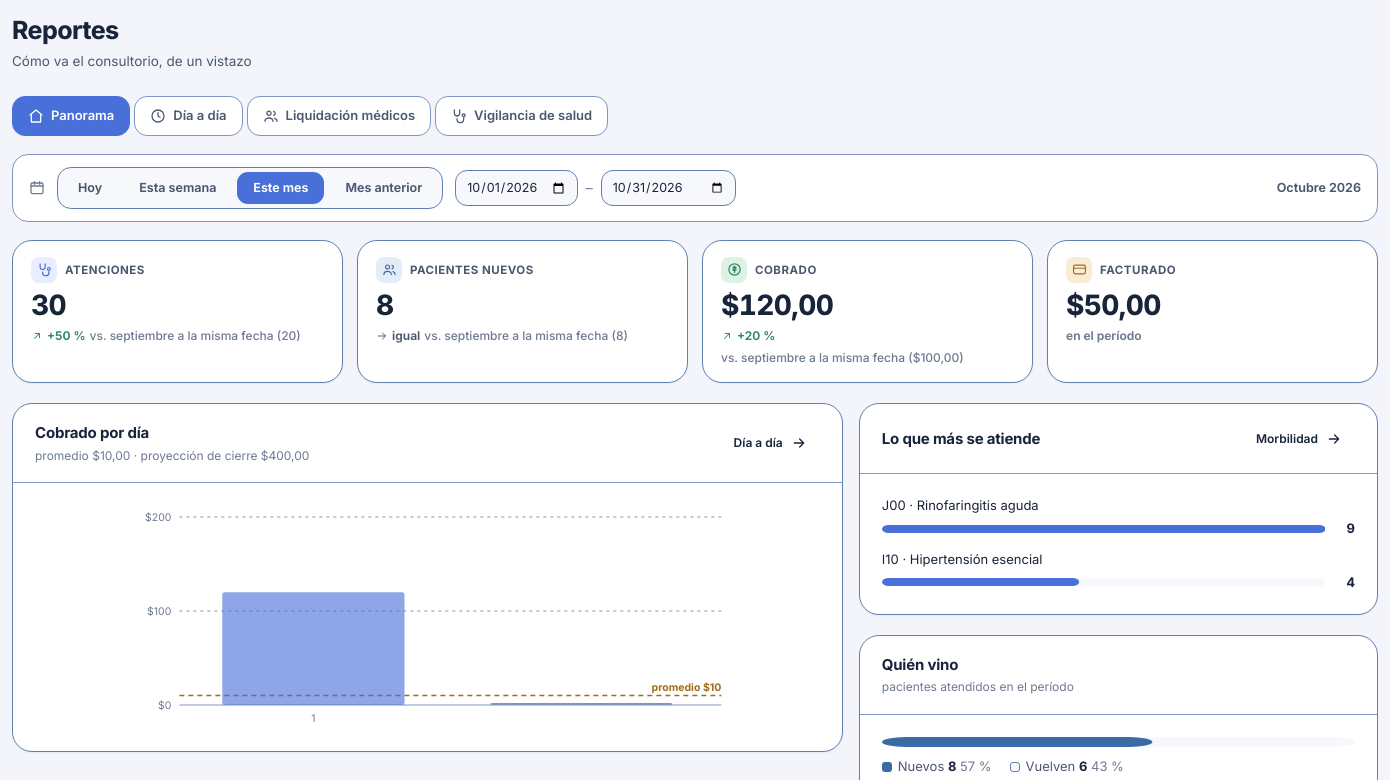
Test case: Reportes → Panorama › links each block to the tab with the detail
The image size is (1390, 780).
Click the button "Morbilidad" at (1299, 439), box [1243,422,1355,455]
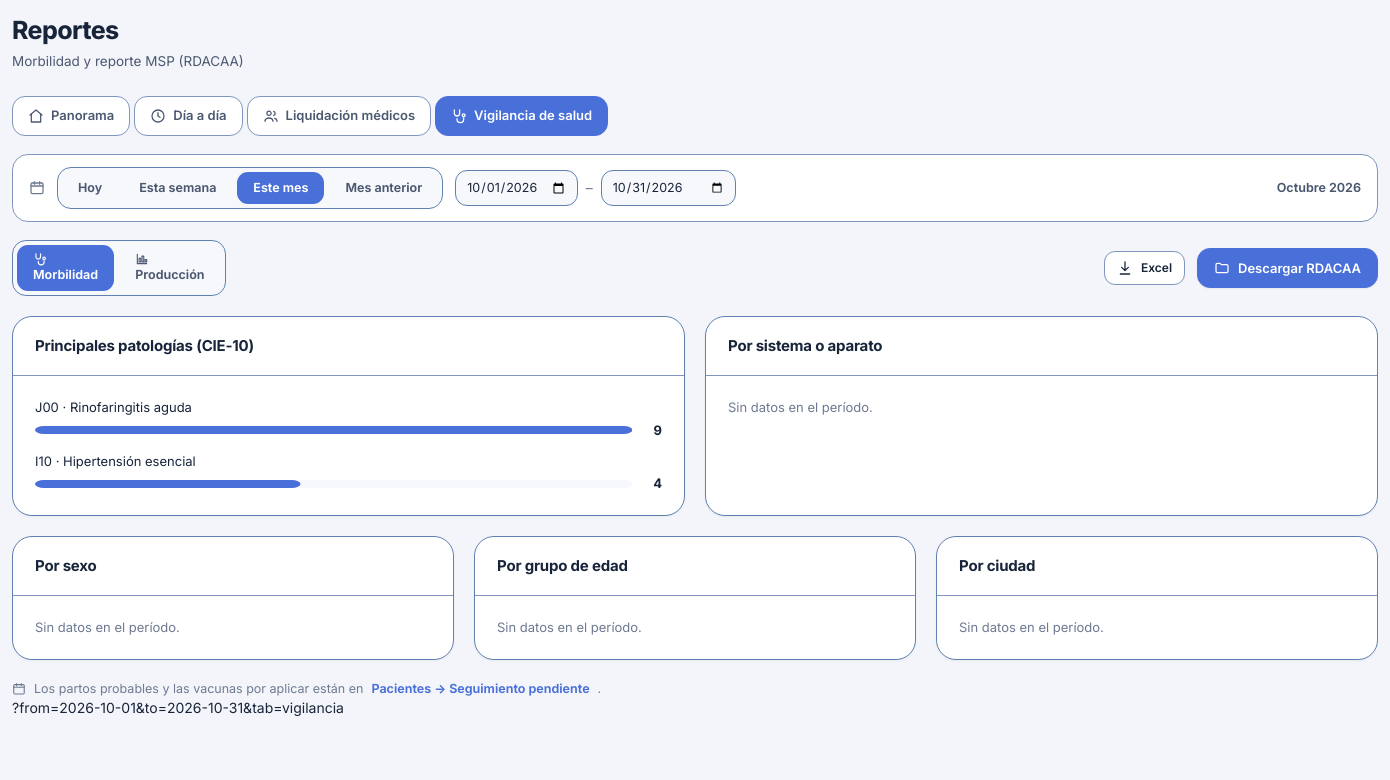
Check: the text with test id "where" shows "tab=vigilancia", box [12,699,344,716]
